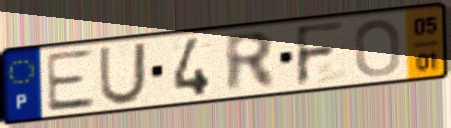4: (171, 35, 214, 99)
E: (43, 46, 98, 115)
F: (293, 19, 348, 89)
O: (352, 17, 403, 79)
R: (221, 29, 279, 96)
U: (96, 40, 149, 107)
